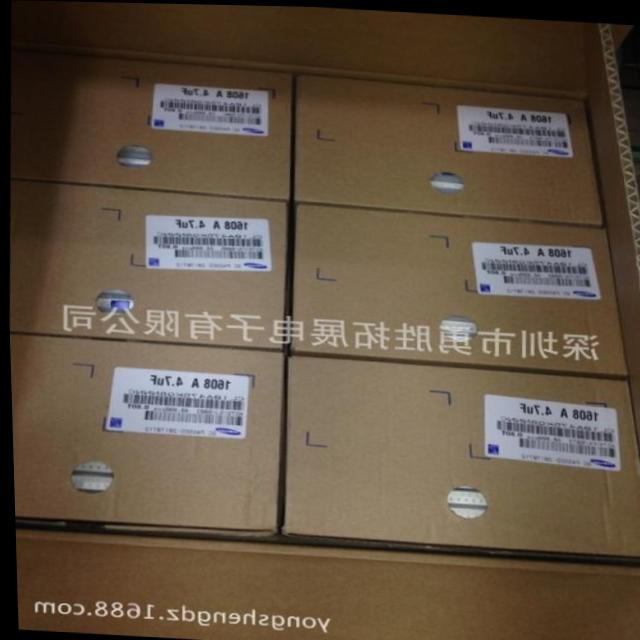box: (279, 354, 640, 564), (286, 202, 627, 376), (8, 332, 282, 536), (290, 71, 605, 223), (7, 179, 287, 347), (9, 48, 292, 198)
